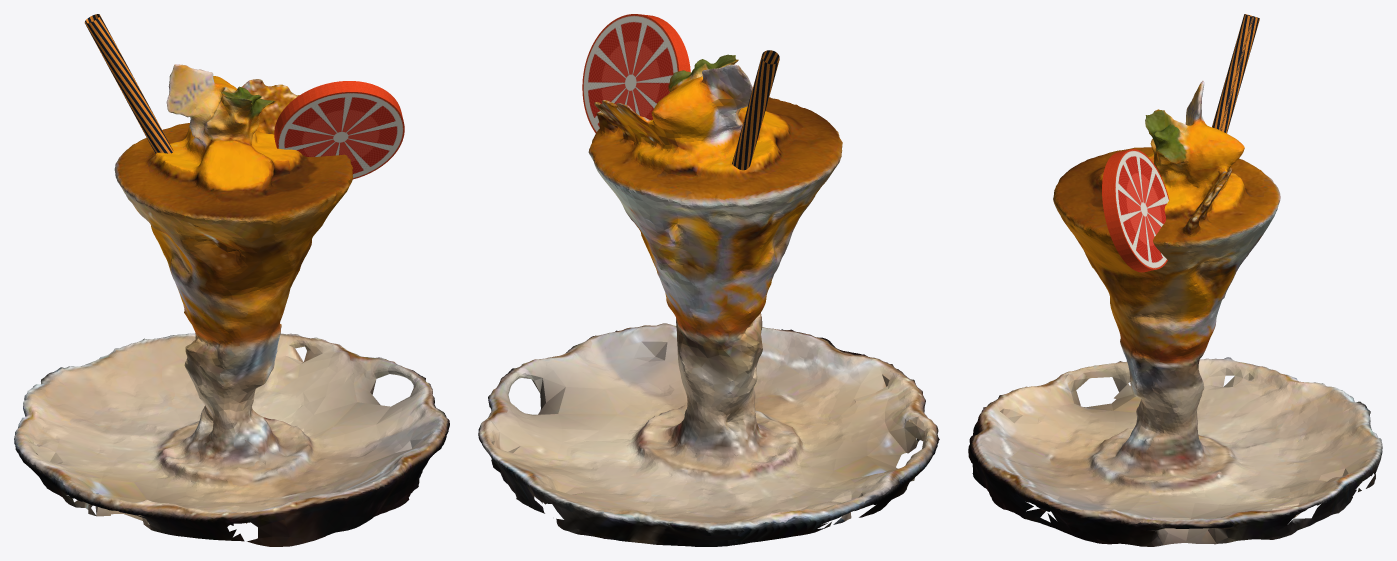
The model's file is drink-sunset-spritz-android.glb.
3 views of the same model, side by side, from view 1: azimuth 30°, elevation 25°; view 2: azimuth 150°, elevation 25°; view 3: azimuth 270°, elevation 25° (orthographic). The views are drawn at different scales.
Parts seen in each view (by area): view 1: glass, garnish; view 2: glass, garnish; view 3: glass, garnish.
Boxes of the visible parts, box(x1,y1,x2,y2) form: glass: box(14, 64, 449, 546); garnish: box(84, 14, 404, 179); glass: box(478, 54, 939, 546); garnish: box(582, 14, 779, 170); glass: box(968, 81, 1382, 546); garnish: box(1102, 14, 1259, 272).
Bounding box in the file's own units: 0.1754 × 0.1933 × 0.1768.
2 materials, 2 textured.
